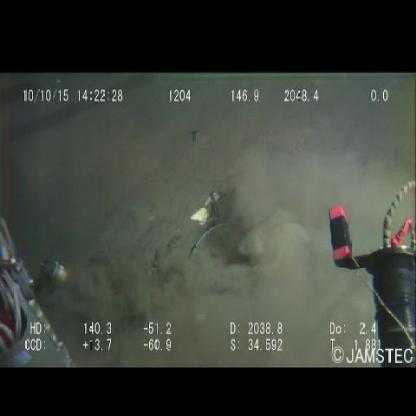Rov: (321, 174, 416, 367), (1, 215, 74, 366)
Rác: (188, 186, 228, 224)
